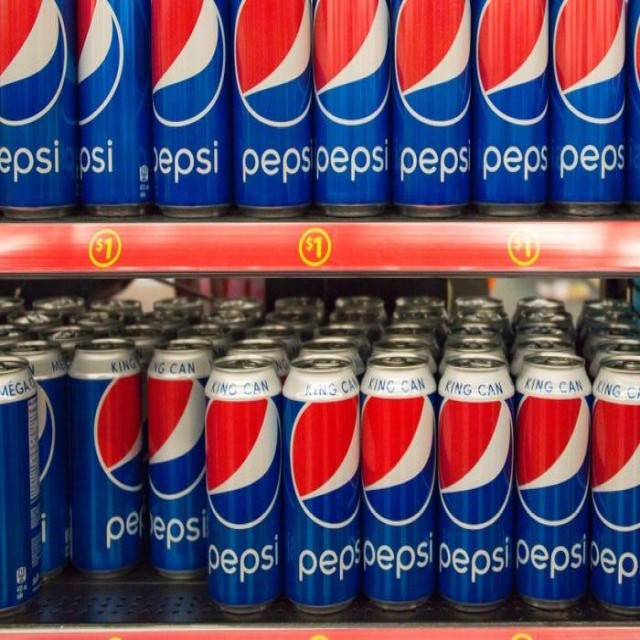pepsi: (201, 390, 284, 535), (513, 388, 594, 531), (357, 392, 440, 528), (315, 0, 394, 132), (151, 0, 232, 128)
